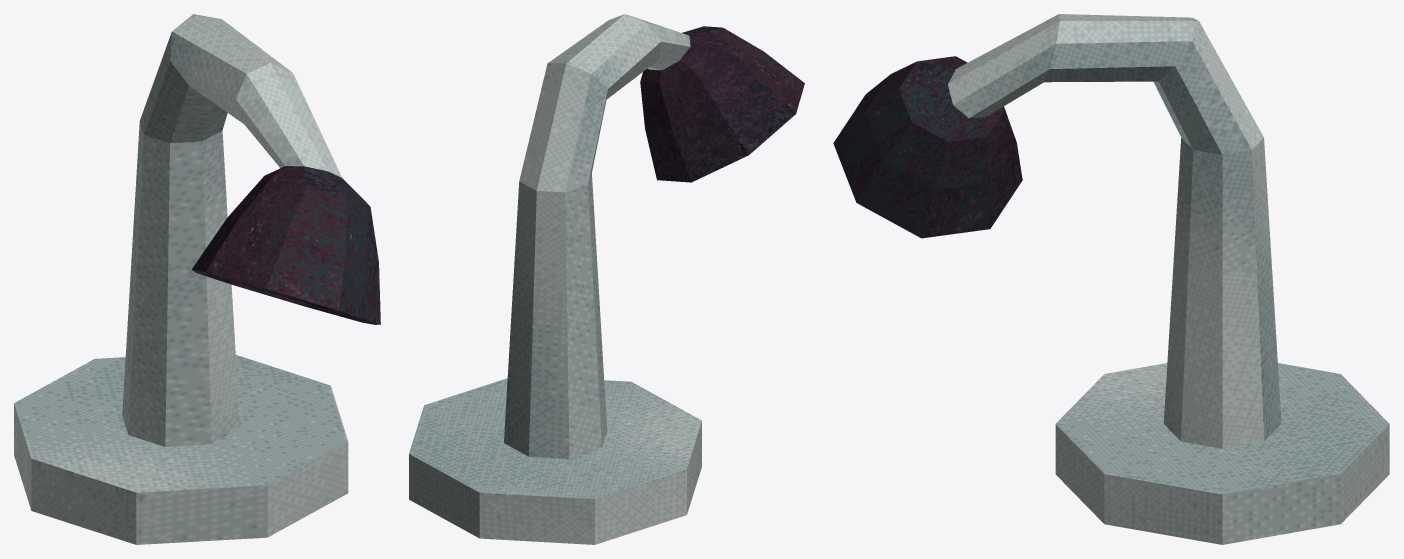
File: desk_lamp.glb
3 views of the same model, side by side, from view 1: azimuth 30°, elevation 25°; view 2: azimuth 150°, elevation 25°; view 3: azimuth 270°, elevation 25° (orthographic). The views are drawn at different scales.
Parts seen in each view (by area): view 1: Cylinder.001; view 2: Cylinder.001; view 3: Cylinder.001.
Part boxes in pixels (x1,y1,x2,y2): Cylinder.001: (14, 14, 380, 544); Cylinder.001: (409, 14, 804, 544); Cylinder.001: (833, 14, 1389, 544).
Size of the model in its own units: 0.6 by 0.9031 by 0.9991.
Materials: 2 (2 with a texture image).
